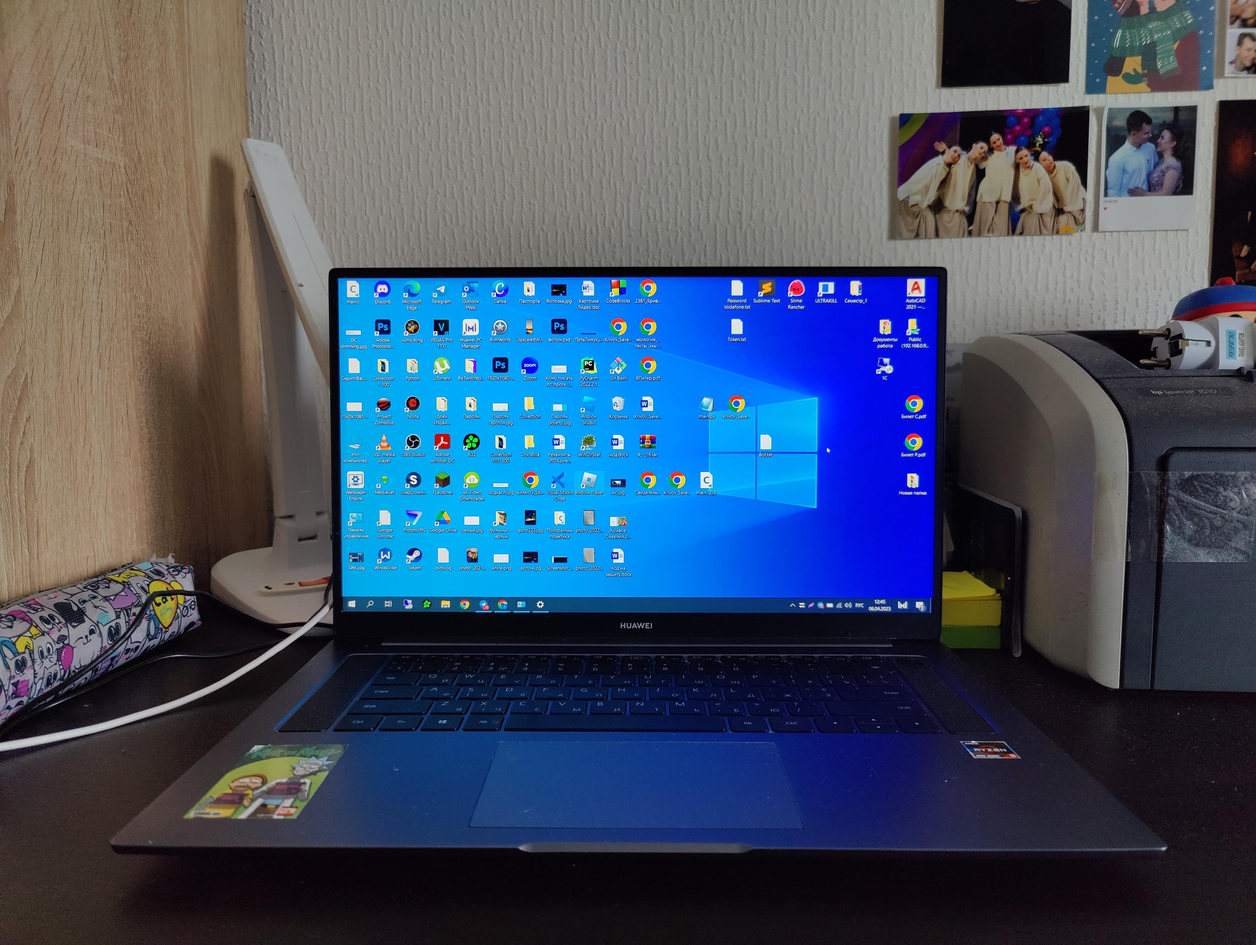monitor: (320, 253, 955, 660)
